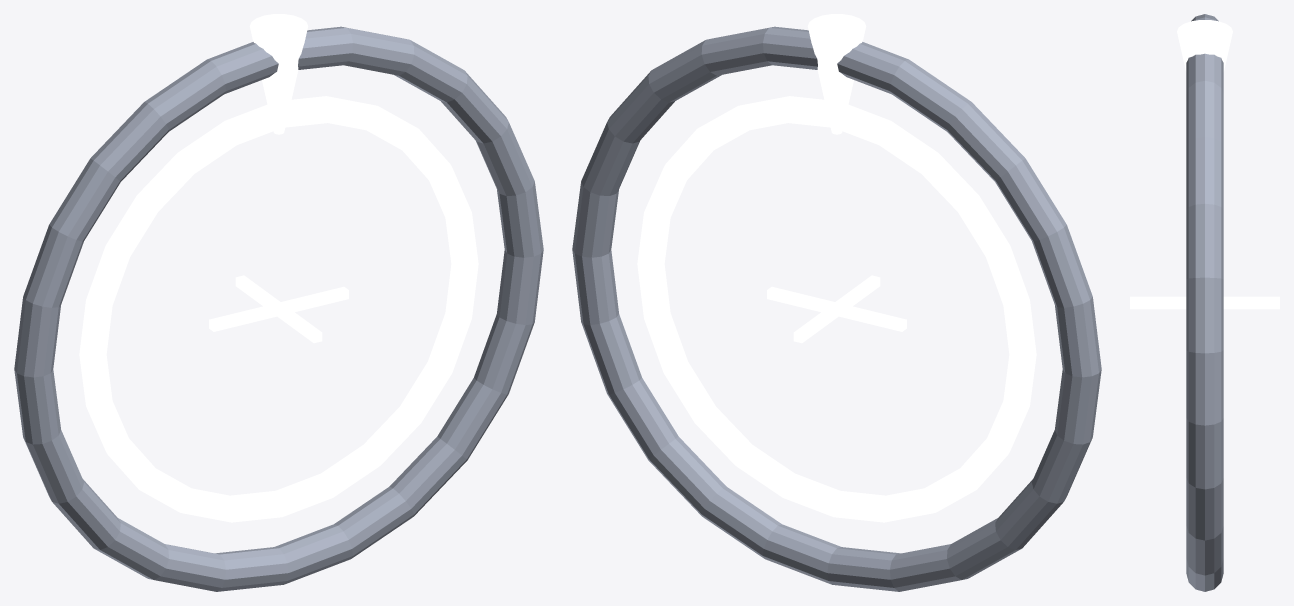
File: frost_aura.glb
3 renders of one model, left to right at view 1: azimuth 30°, elevation 25°; view 2: azimuth 150°, elevation 25°; view 3: azimuth 270°, elevation 25°, orthographic. The views are drawn at different scales.
Visible parts, largest first — view 1: ring_outer, ring_inner, crystal, snow_mark_h, snow_mark_v; view 2: ring_outer, ring_inner, crystal, snow_mark_v, snow_mark_d1, snow_mark_h; view 3: ring_outer, crystal, snow_mark_v.
Boxes of the visible parts, left/top/right/bottom form: ring_outer: left=14, top=26, right=543, bottom=591; ring_inner: left=79, top=96, right=478, bottom=522; crystal: left=249, top=14, right=308, bottom=134; snow_mark_h: left=209, top=286, right=348, bottom=331; snow_mark_v: left=235, top=275, right=322, bottom=343; ring_outer: left=572, top=26, right=1101, bottom=591; ring_inner: left=637, top=96, right=1036, bottom=522; crystal: left=807, top=14, right=866, bottom=134; snow_mark_v: left=793, top=275, right=880, bottom=343; snow_mark_d1: left=783, top=291, right=889, bottom=327; snow_mark_h: left=767, top=286, right=906, bottom=331; ring_outer: left=1186, top=14, right=1223, bottom=591; crystal: left=1177, top=20, right=1232, bottom=71; snow_mark_v: left=1130, top=296, right=1279, bottom=309.
Bounding box in the file's own units: 0.62 × 0.63 × 0.16.
